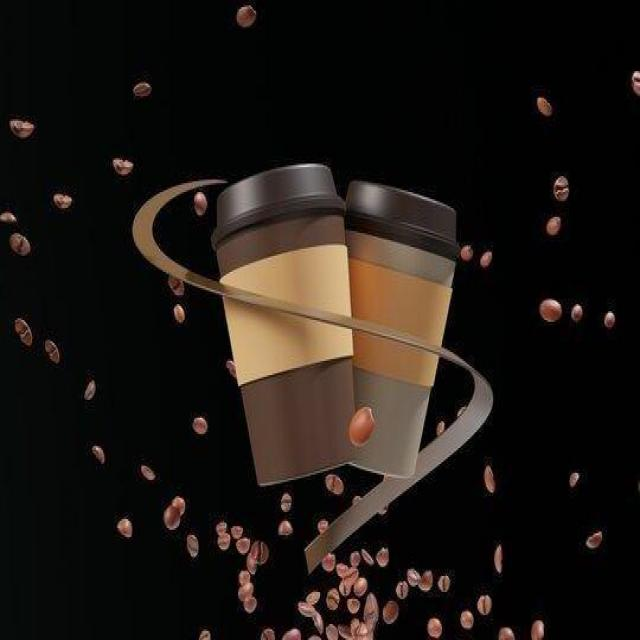cup-disposable: (207, 156, 361, 498), (342, 171, 464, 485)
